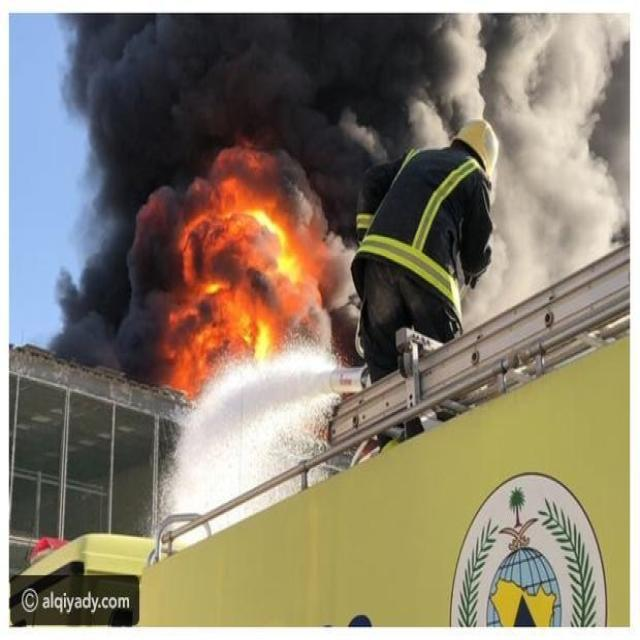Fire: (156, 146, 330, 400)
Smoke: (44, 11, 630, 388)
